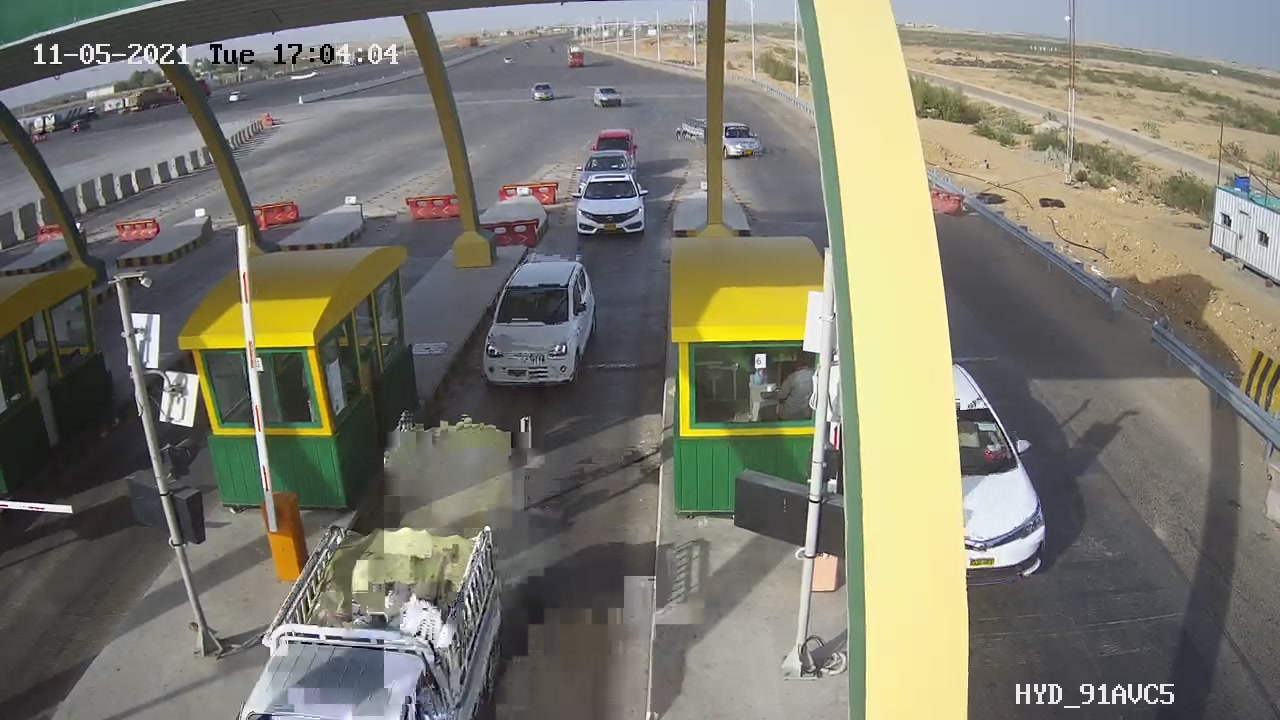F1: (561, 169, 657, 248)
